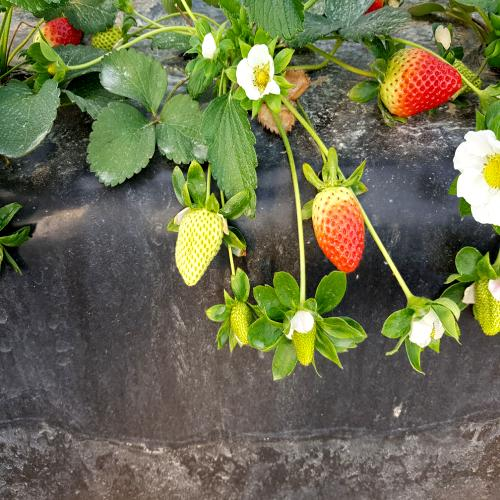partially-ripe: (381, 33, 465, 122), (308, 179, 368, 288)
unripe: (168, 203, 228, 301)
